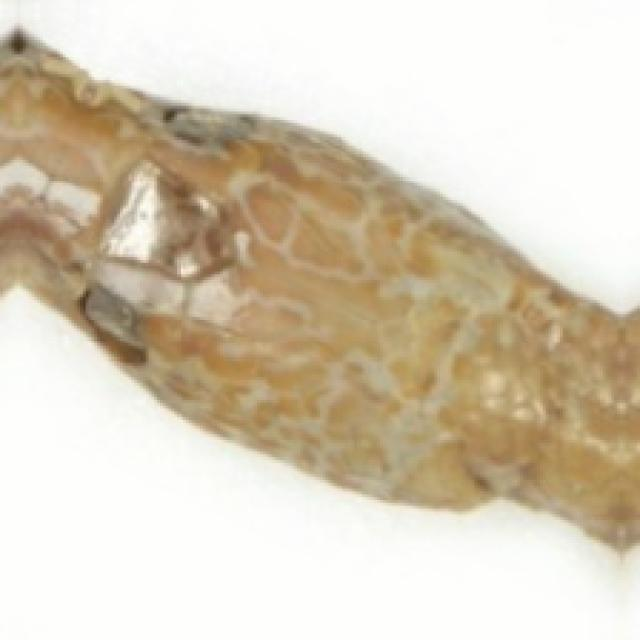mullers wolf snake: (0, 31, 637, 546)
